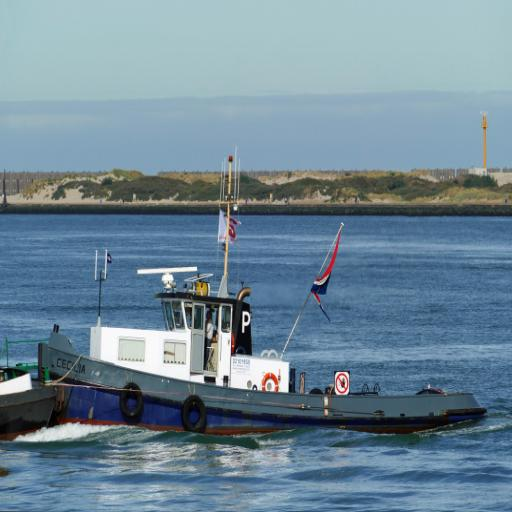tugboat: (35, 142, 493, 448)
